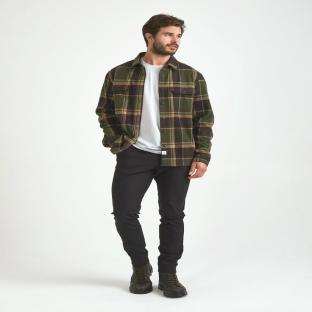Human: (96, 14, 214, 296)
